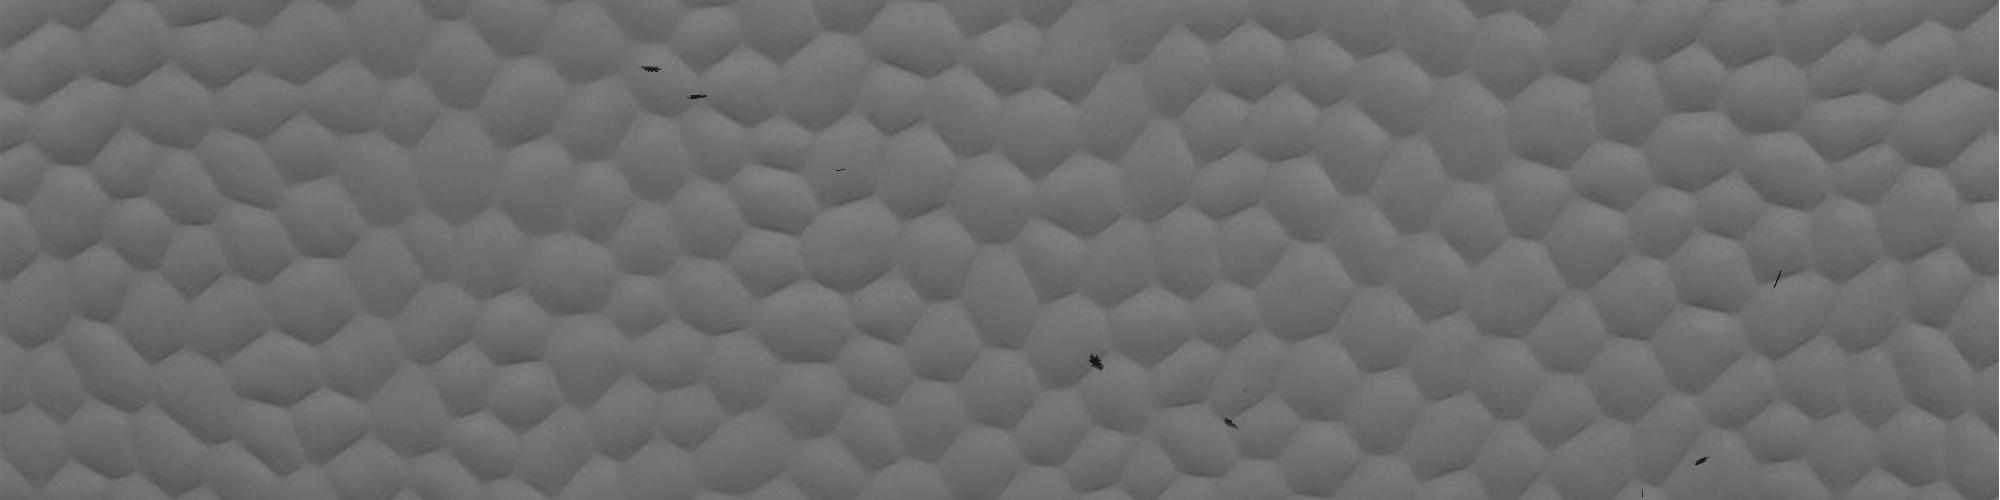Decomposed: (631, 54, 671, 88), (1082, 348, 1119, 376), (682, 87, 707, 116), (1224, 415, 1250, 435), (837, 166, 853, 171)
